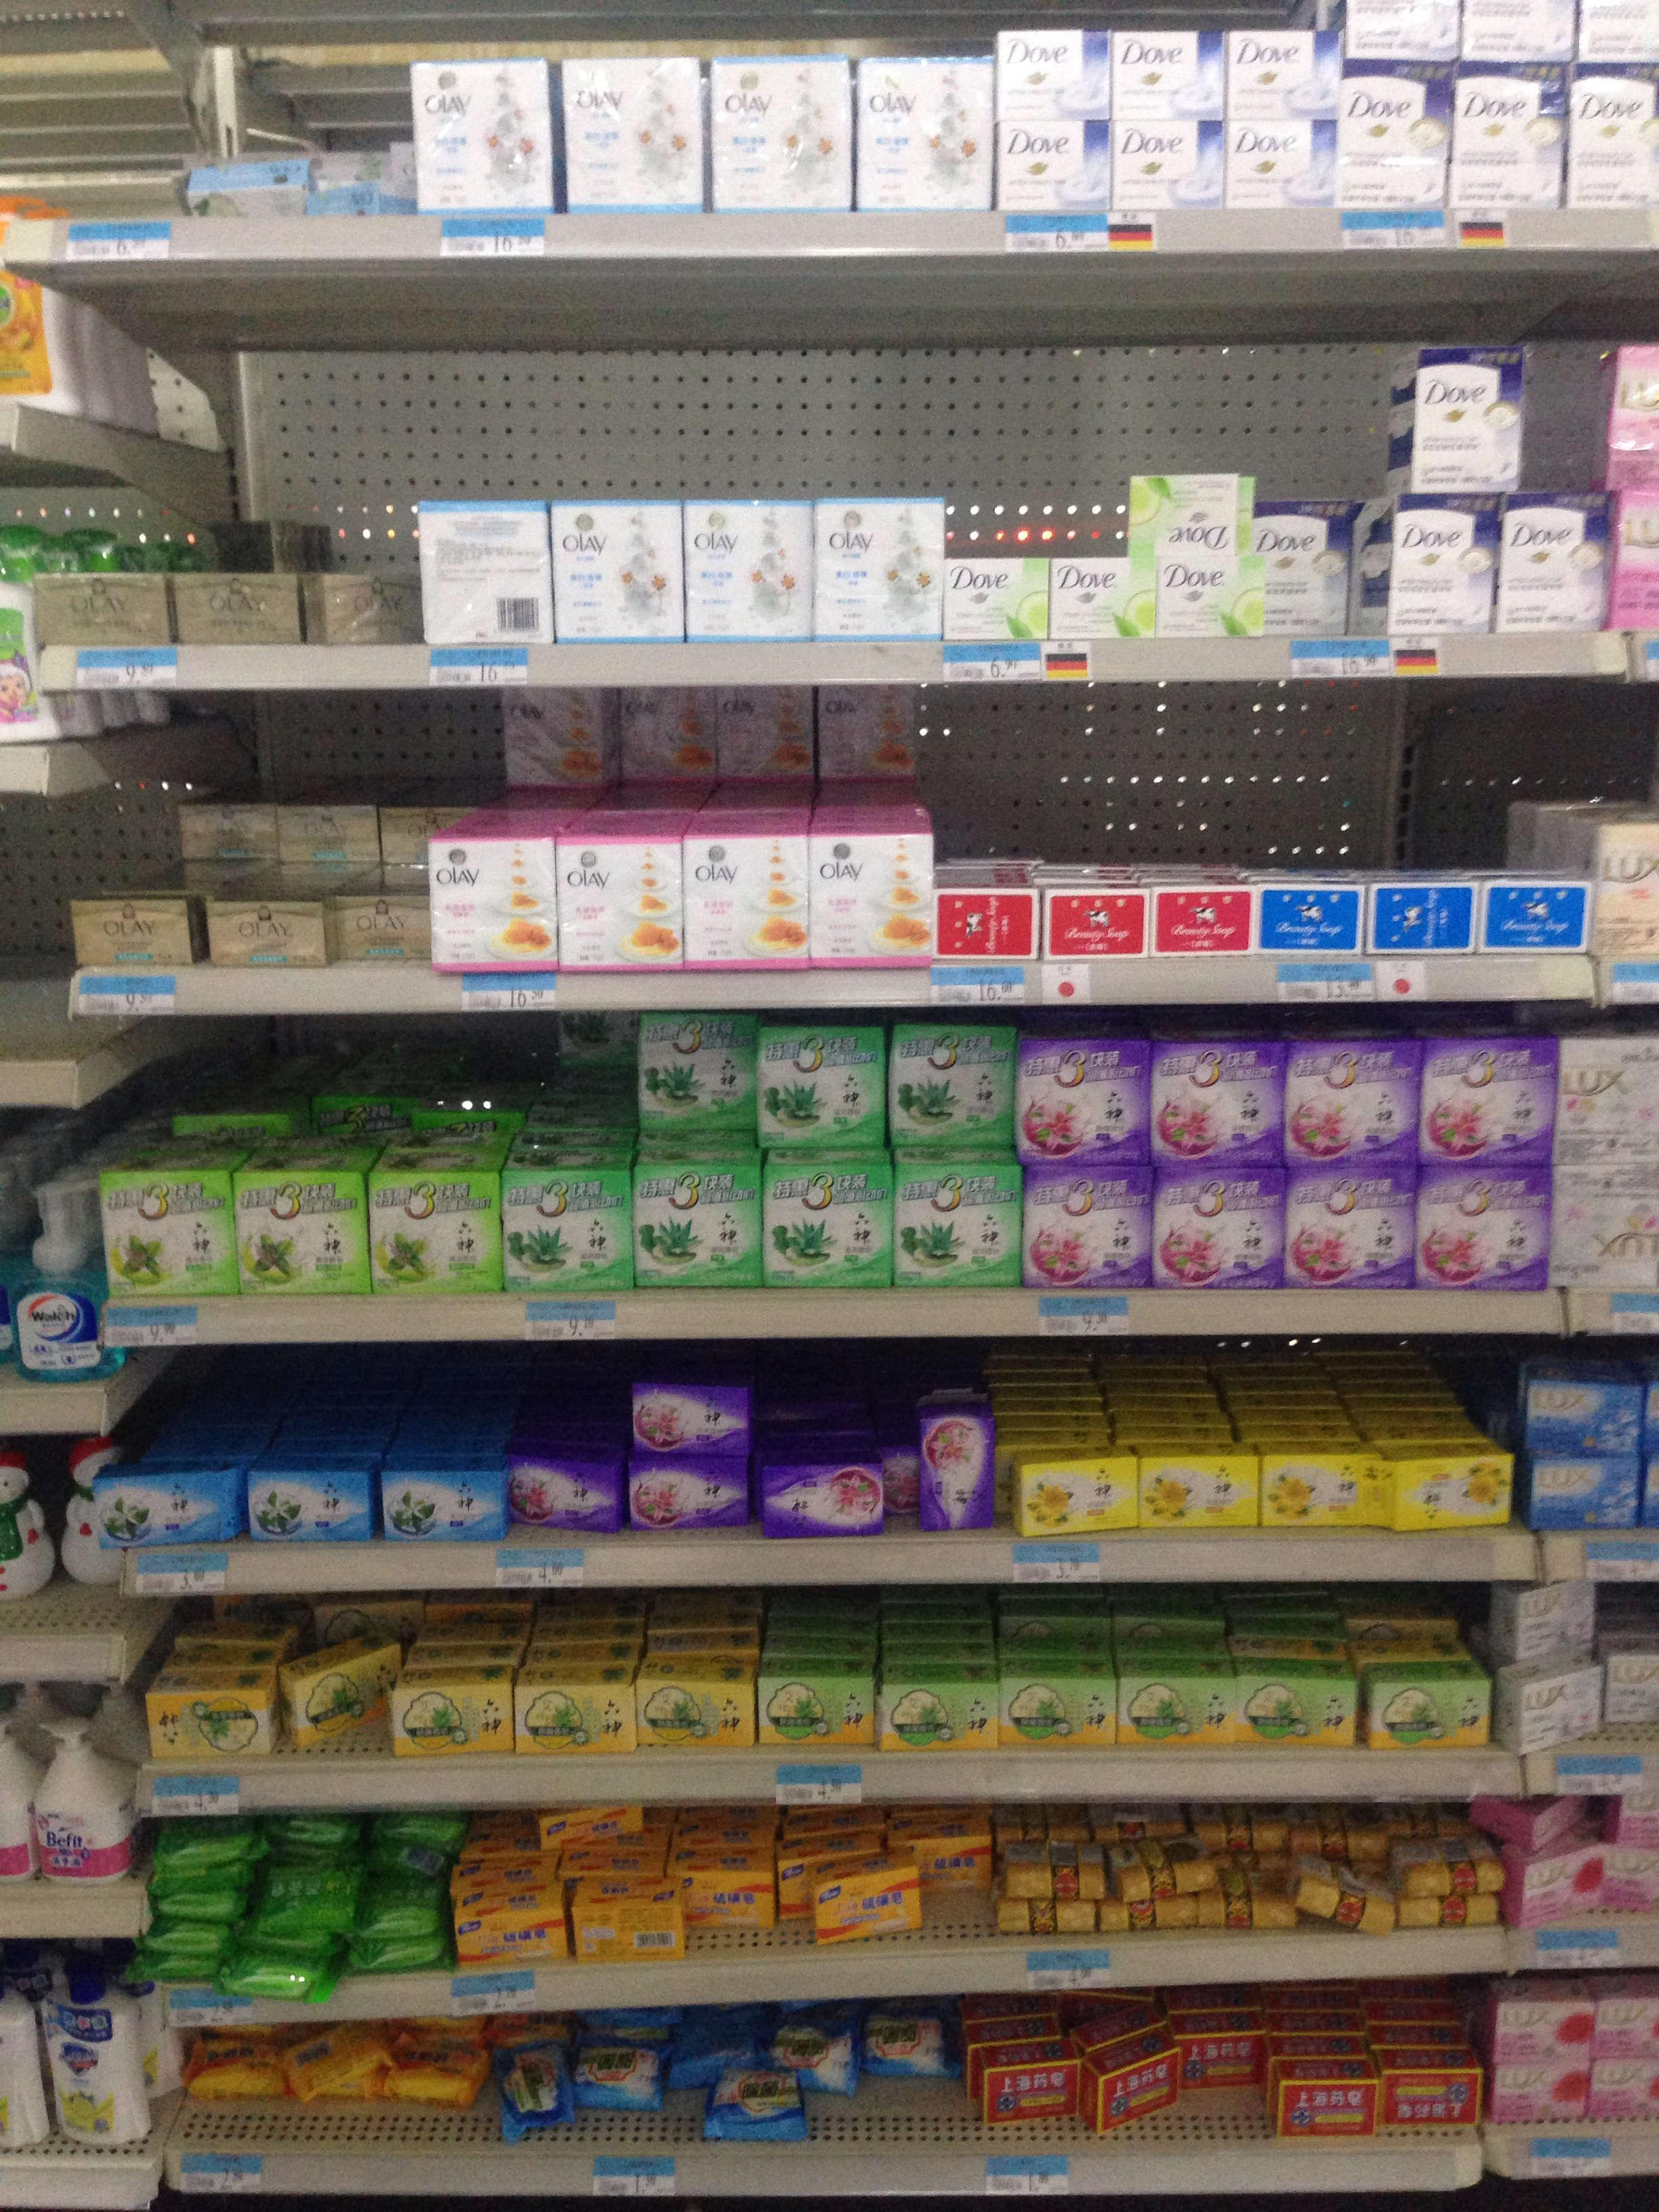empty: (131, 54, 270, 211), (279, 56, 418, 211), (1249, 686, 1358, 880), (1150, 688, 1258, 880), (1046, 693, 1152, 887), (1467, 679, 1574, 873), (934, 697, 1040, 888), (1358, 688, 1464, 880), (570, 685, 690, 836), (383, 1024, 504, 1174), (112, 1014, 232, 1163), (695, 685, 816, 834), (809, 685, 929, 834), (300, 491, 420, 641), (512, 1024, 631, 1176), (446, 681, 565, 833), (247, 1022, 366, 1172), (143, 1371, 281, 1463), (836, 2059, 972, 2151), (298, 1374, 434, 1467), (451, 1372, 587, 1465), (765, 1366, 901, 1456)
